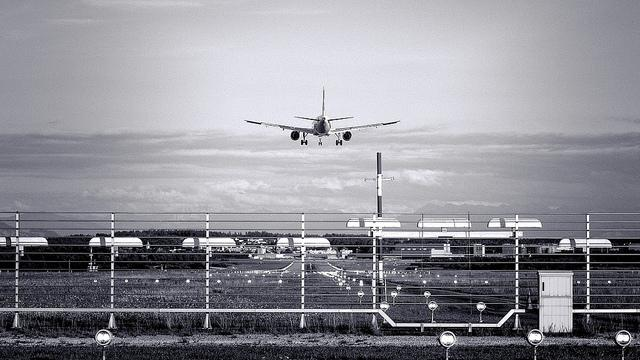airplane: (242, 84, 402, 148)
